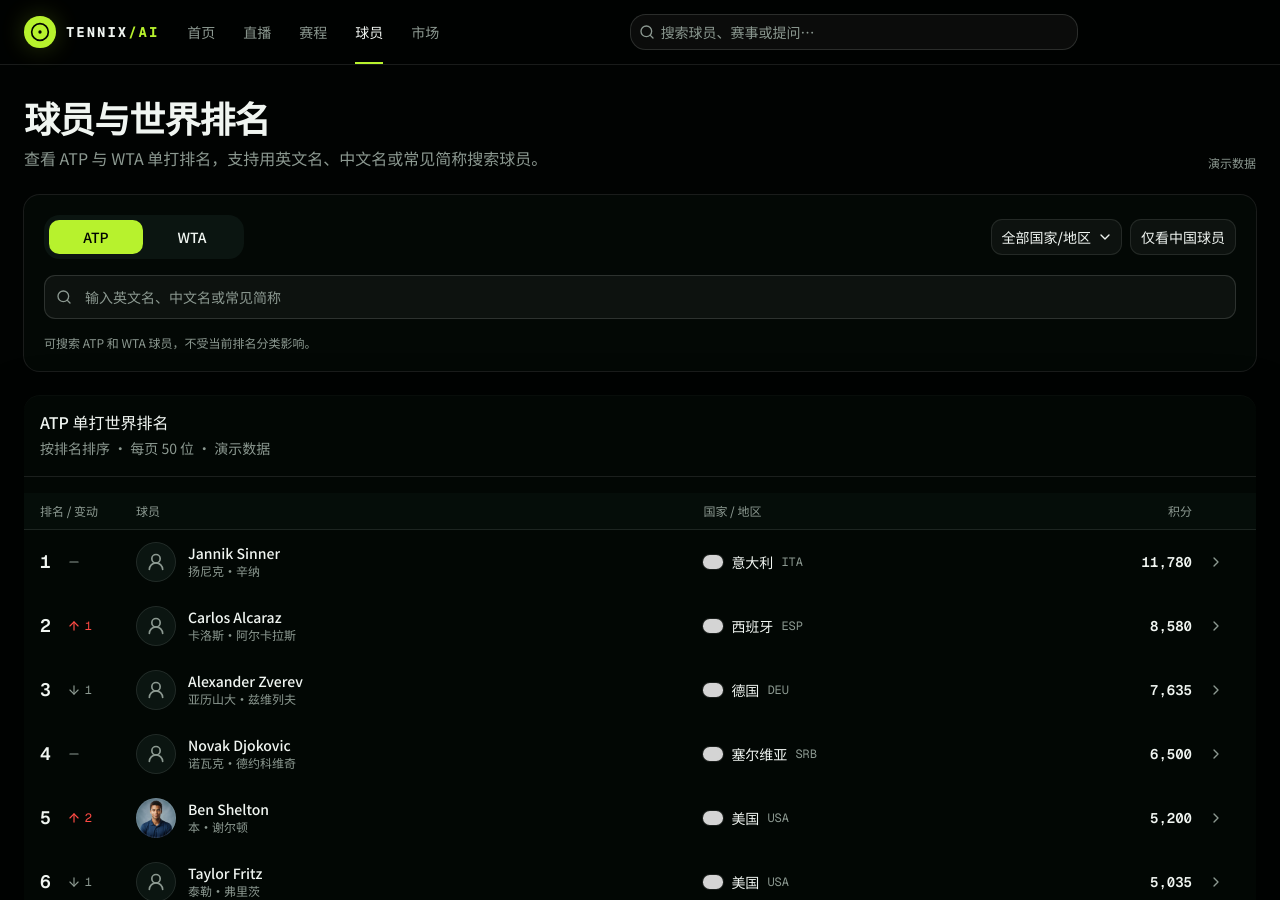
it: PlayersPage rankings mode › restores the full ranking list when filters are reset
The width and height of the screenshot is (1280, 900).
Click the button "仅看中国球员".
click(1183, 237)  # box [1130,219,1236,255]
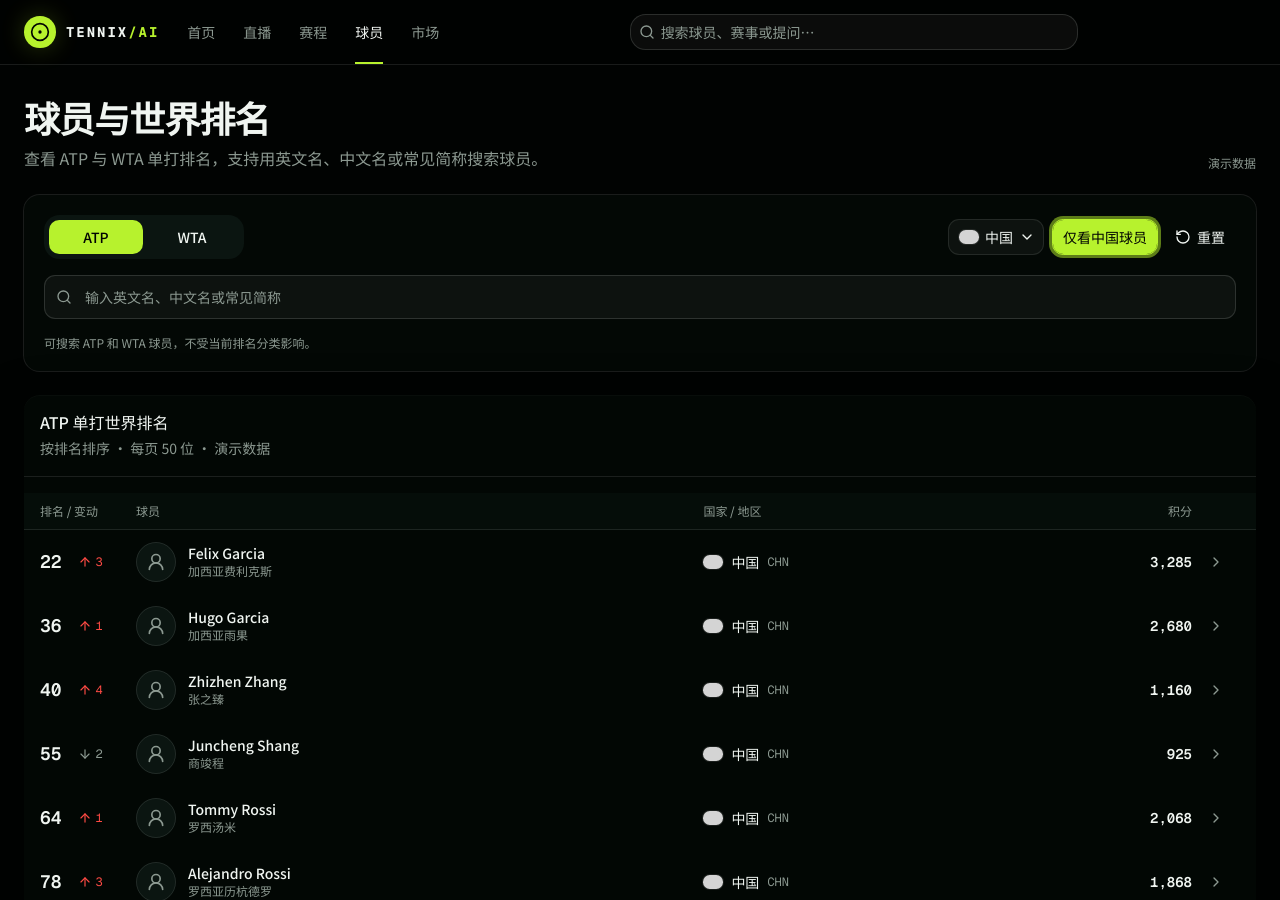
Expected: the text "1–50 / 共 200 位" is not shown
Click the button "重置".
click(1201, 237)  # box [1166,219,1236,255]
(page scrolled)
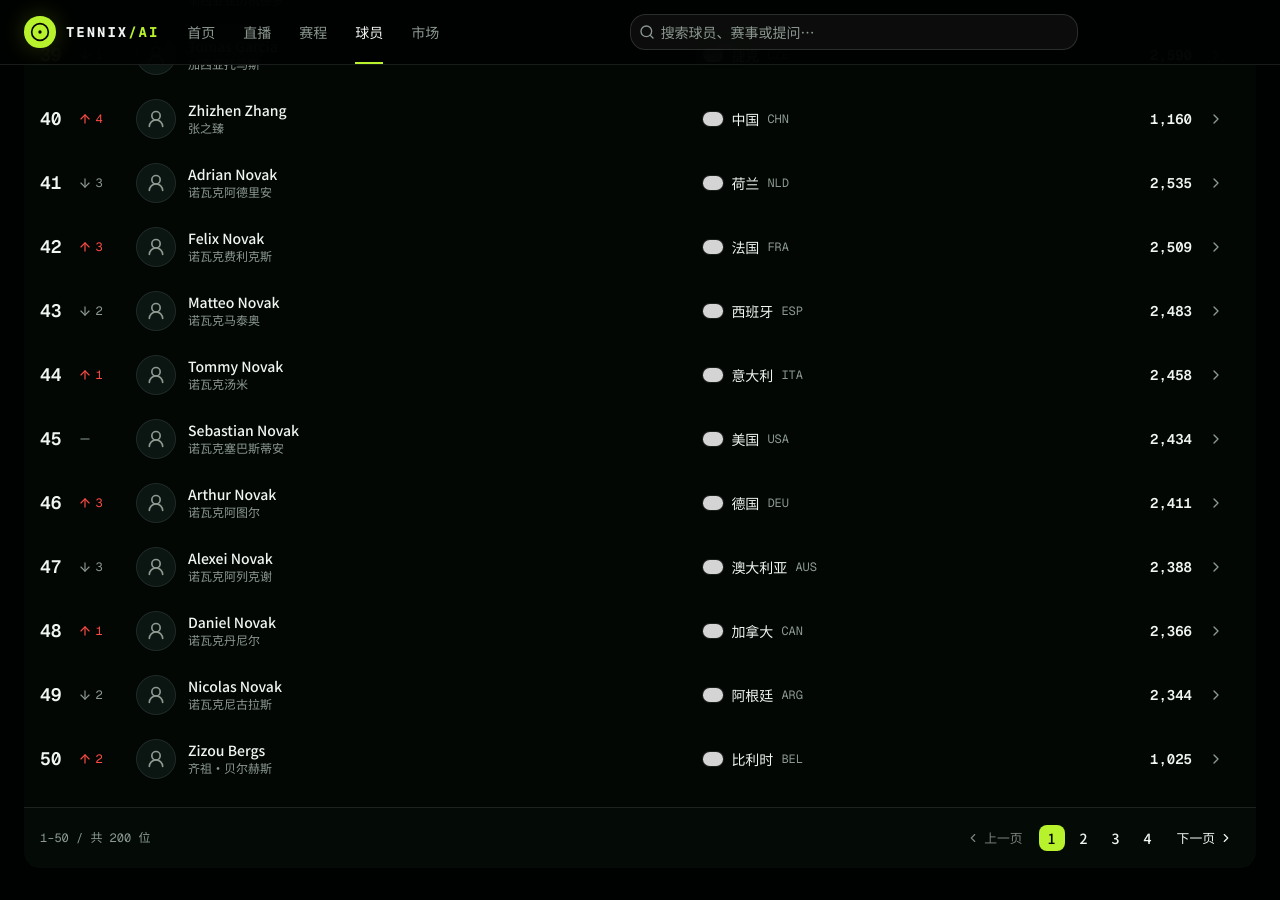
Result: the text "1–50 / 共 200 位" is shown at [40,830,150,846]
